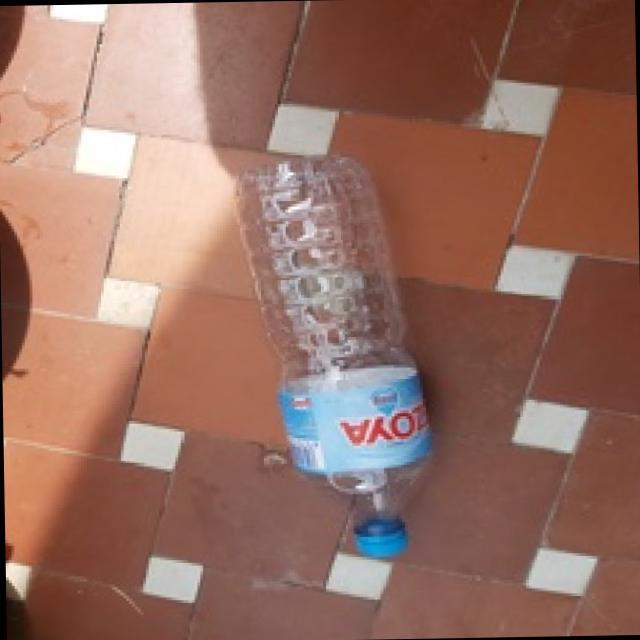good: (228, 148, 440, 568)
